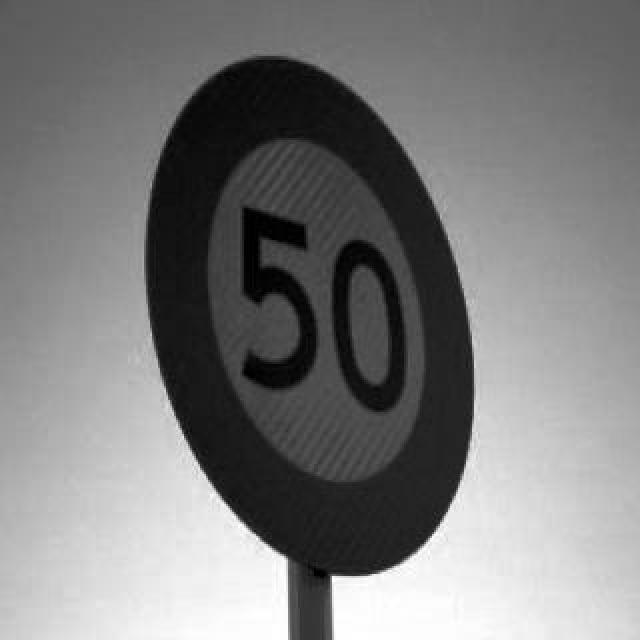50 kph: (146, 54, 474, 574)
